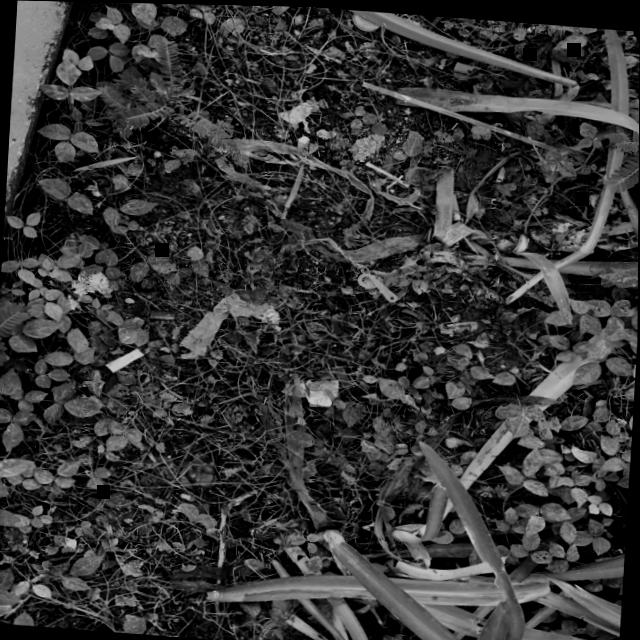Cigarette: (105, 348, 144, 373), (453, 59, 477, 73), (453, 191, 462, 218)
Other plastic: (299, 377, 338, 405)
Other plastic bottle: (171, 501, 219, 528), (357, 271, 398, 300)
Plastic bottle cap: (352, 11, 379, 29)
Plastic straw: (361, 79, 562, 150)
Unlabeled litter: (434, 167, 475, 243), (364, 159, 408, 185), (70, 272, 118, 295), (440, 319, 476, 334), (66, 536, 75, 549)
Wrapping paper: (180, 291, 279, 357)
